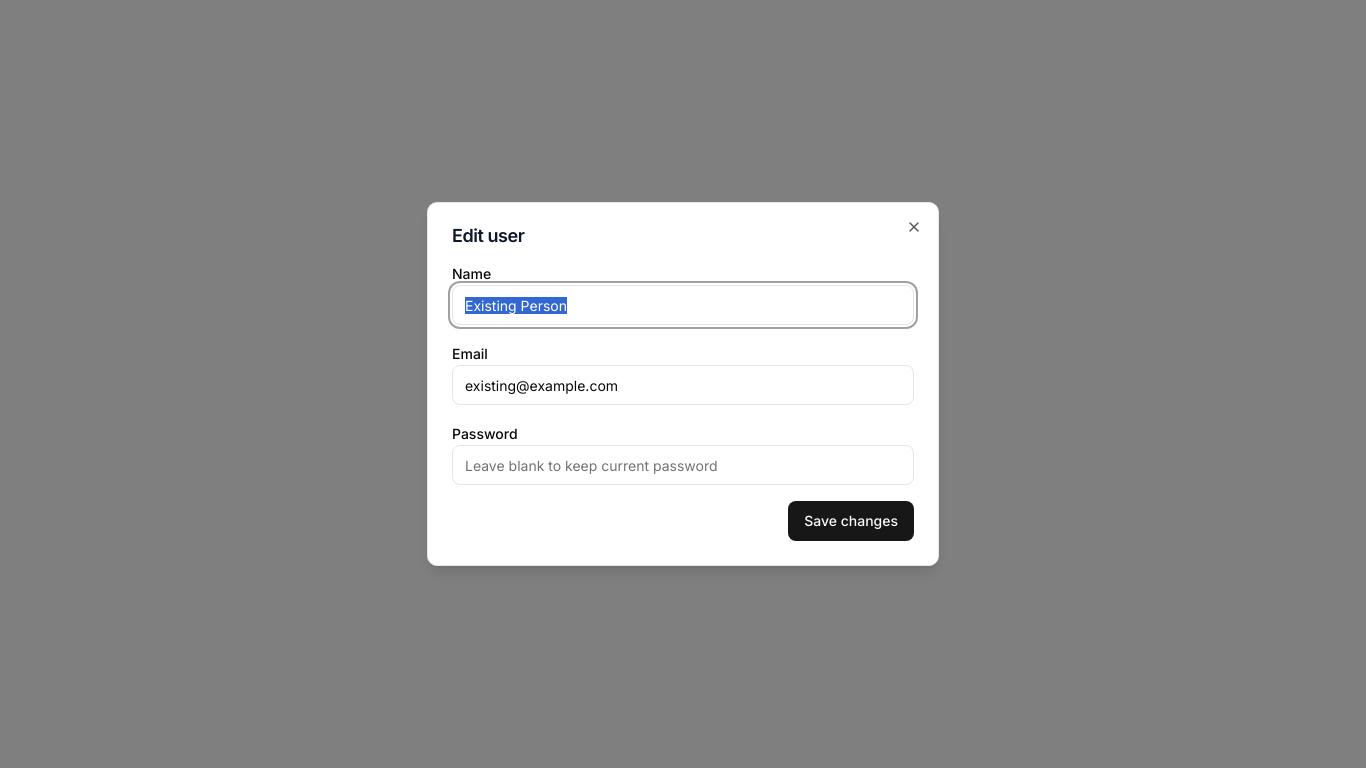
it: UserFormDialog › edit mode › shows the server's error message on failure
This screenshot has width=1366, height=768.
Expected: the dialog is shown, [427, 202, 939, 566]
Step 1. Replace the text in the field labelled "Email" with "taken@example.com" → (683, 385), box [452, 365, 914, 405]
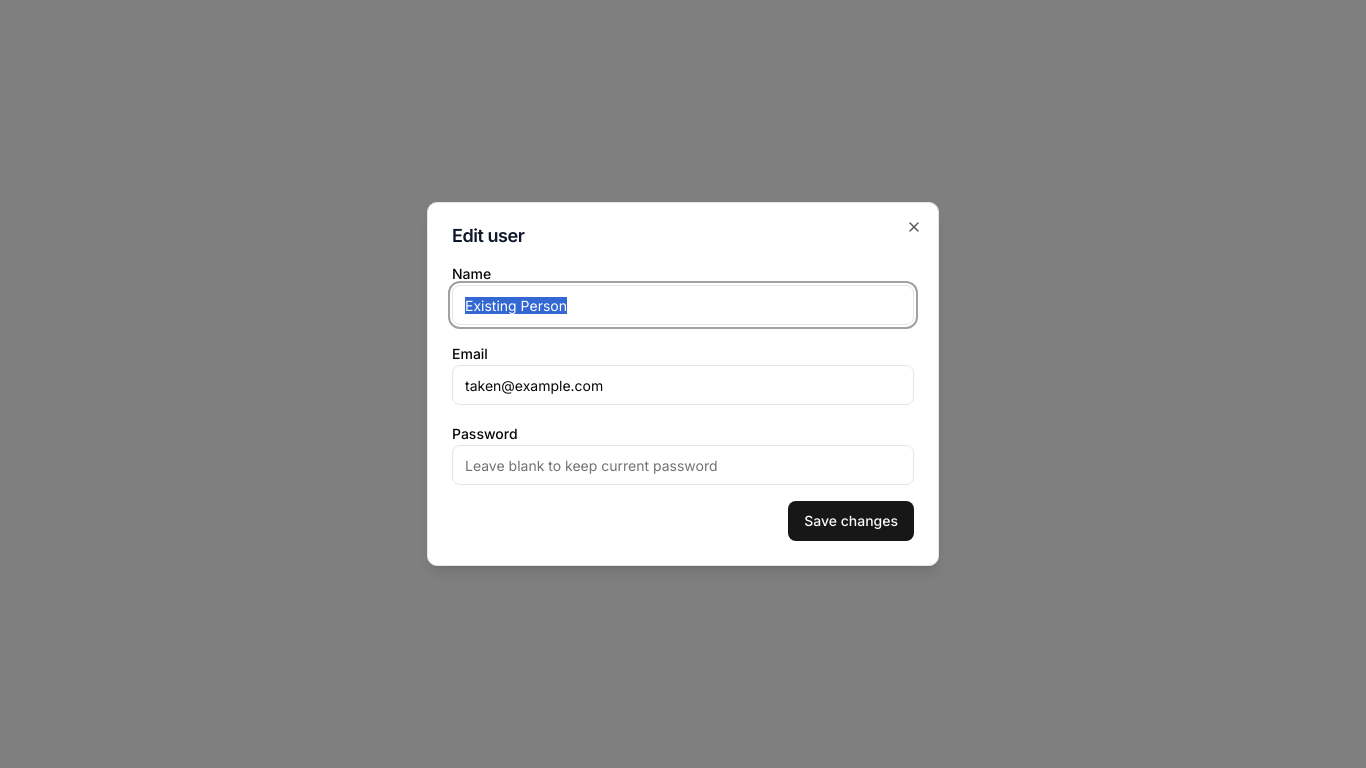
Step 2. Click the button "Save changes" → (851, 521), box [788, 501, 914, 541]
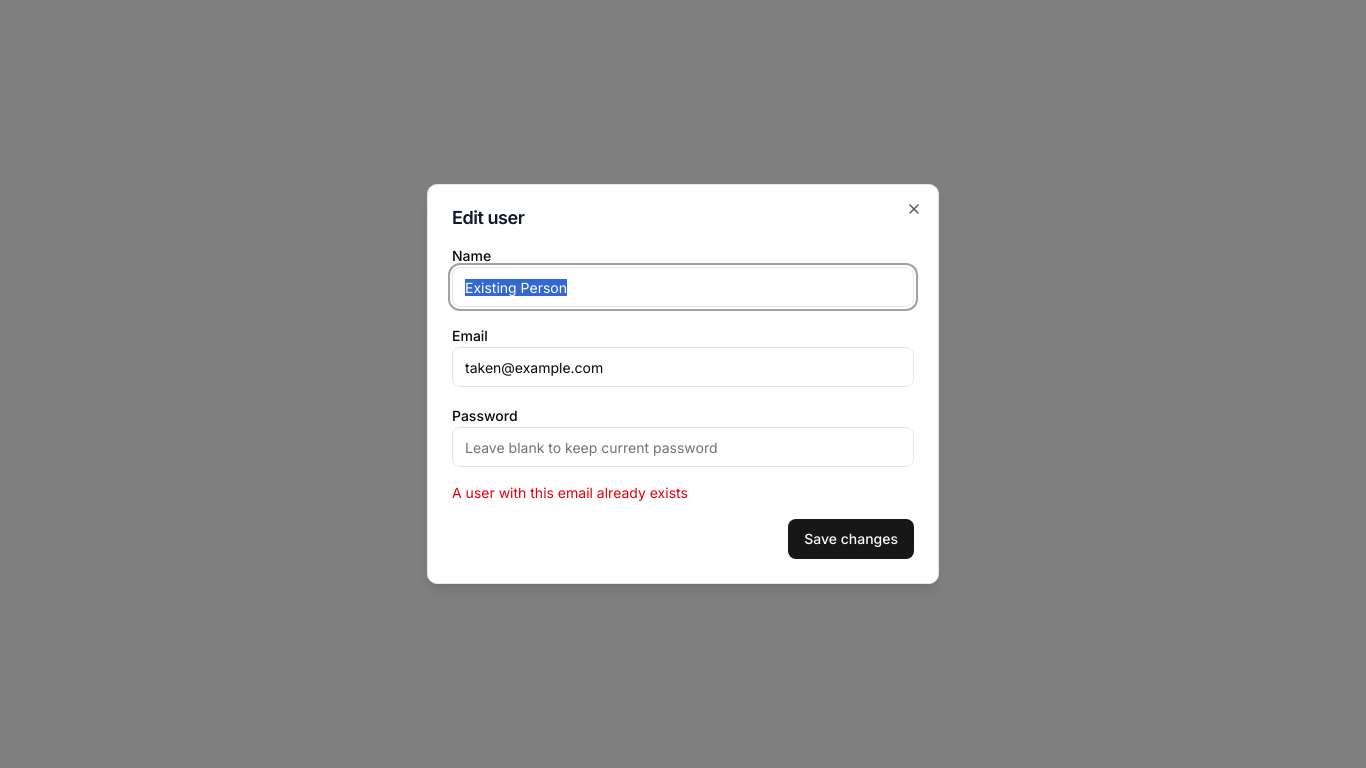
Expected: the dialog is shown, [427, 184, 939, 584]
Result: the text "A user with this email already exists" is shown at [452, 484, 688, 501]
